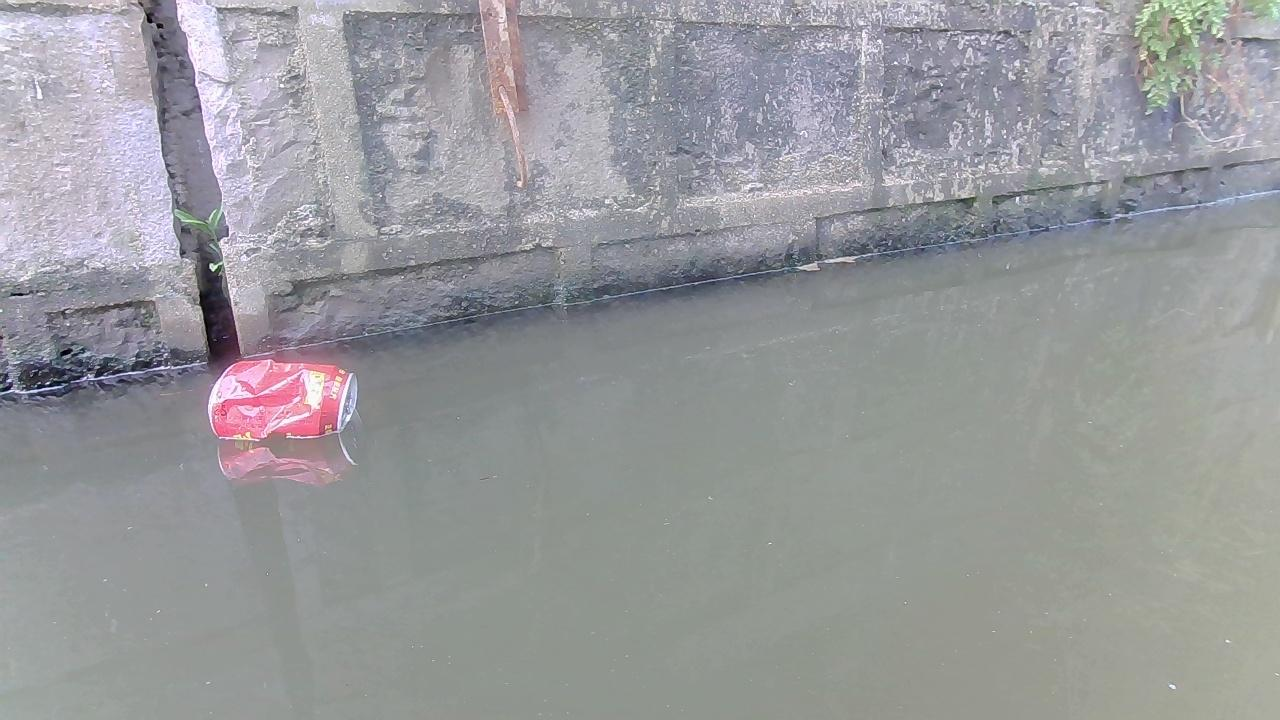bottle: (210, 360, 352, 441)
